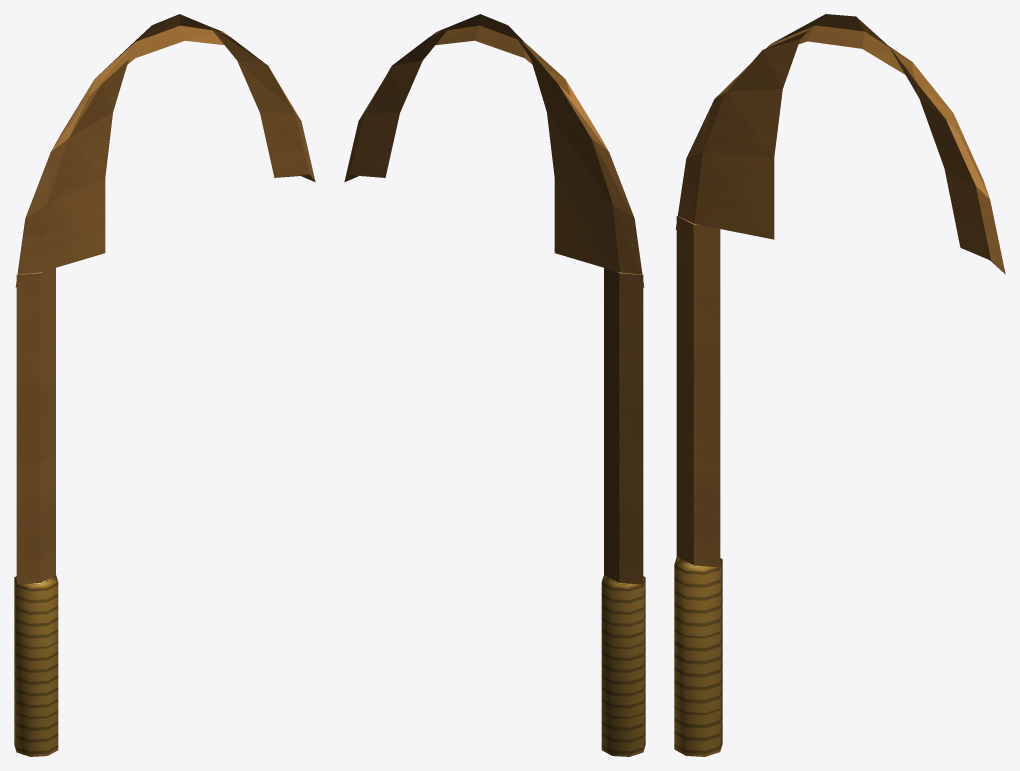
Rendered from khopesh.glb.
The picture shows the model from 3 angles, left to right: view 1: azimuth 30°, elevation 25°; view 2: azimuth 150°, elevation 25°; view 3: azimuth 330°, elevation 25°; orthographic projection. The views are drawn at different scales.
Visible parts, largest first — view 1: khopesh; view 2: khopesh; view 3: khopesh.
Boxes of the visible parts, box(x1,y1,x2,y2) form: khopesh: box(14, 14, 315, 756); khopesh: box(344, 14, 645, 756); khopesh: box(674, 14, 1005, 756).
Bounding box in the file's own units: 0.2431 × 0.5411 × 0.032.
1 material, 1 textured.
